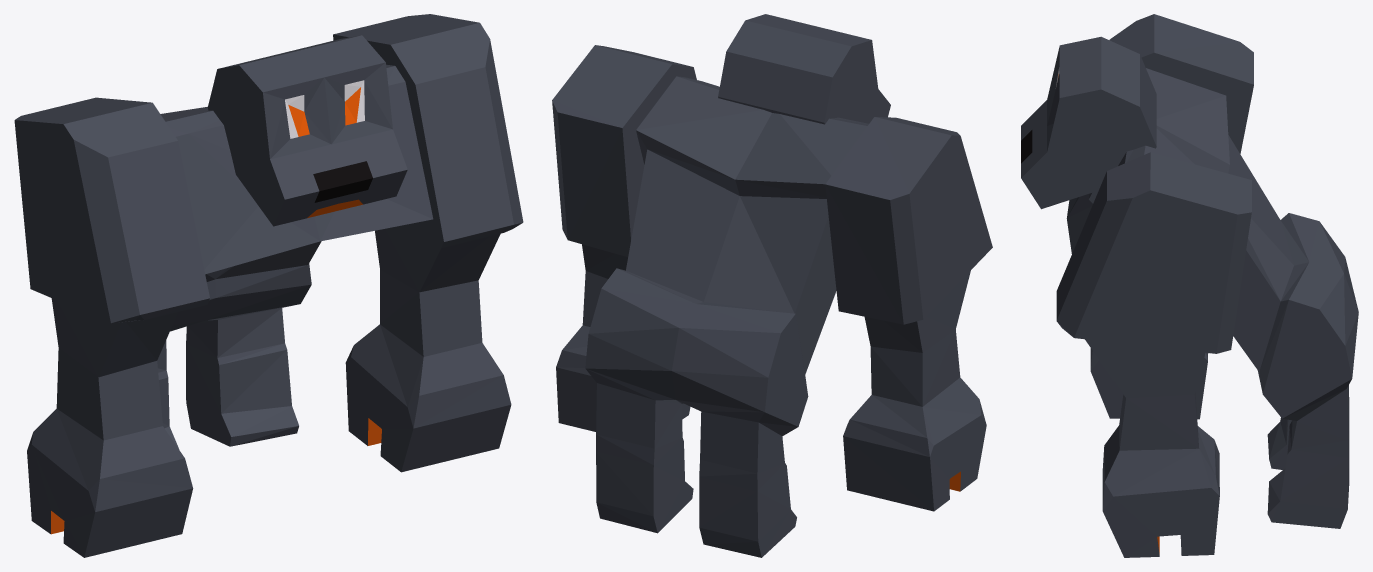
File: kong_000011.obj
The picture shows the model from 3 angles, left to right: view 1: azimuth 30°, elevation 25°; view 2: azimuth 150°, elevation 25°; view 3: azimuth 270°, elevation 25°; orthographic projection. The views are drawn at different scales.
Parts seen in each view (by area): view 1: Cube; view 2: Cube; view 3: Cube.
Part boxes in pixels (x1,y1,x2,y2): Cube: [14, 14, 523, 557]; Cube: [552, 14, 992, 557]; Cube: [1021, 14, 1358, 557].
Bounding box in the file's own units: 5.84 × 6.36 × 4.56.
Materials: 1 (1 with a texture image).
